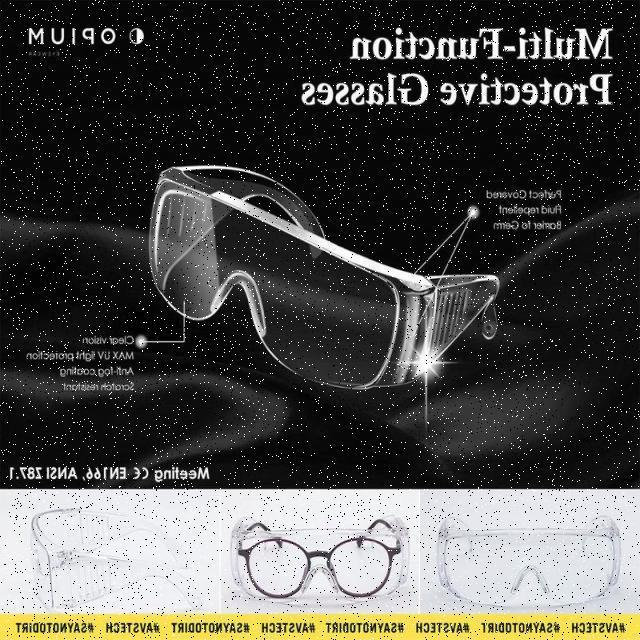Goggles: (147, 158, 506, 387), (222, 513, 416, 615), (23, 507, 205, 612), (436, 510, 621, 611)
